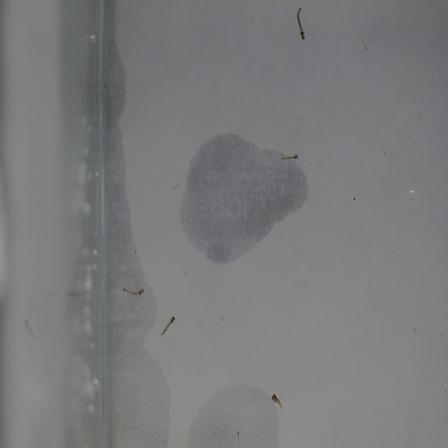Jentik-Nyamuk: (294, 4, 310, 47), (159, 313, 179, 339), (119, 282, 149, 299), (268, 389, 290, 411), (277, 148, 302, 164)
